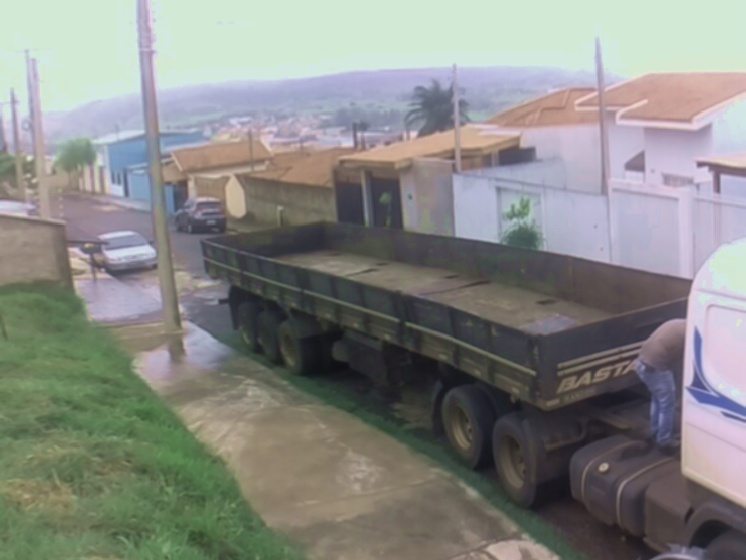person: (634, 315, 688, 449)
